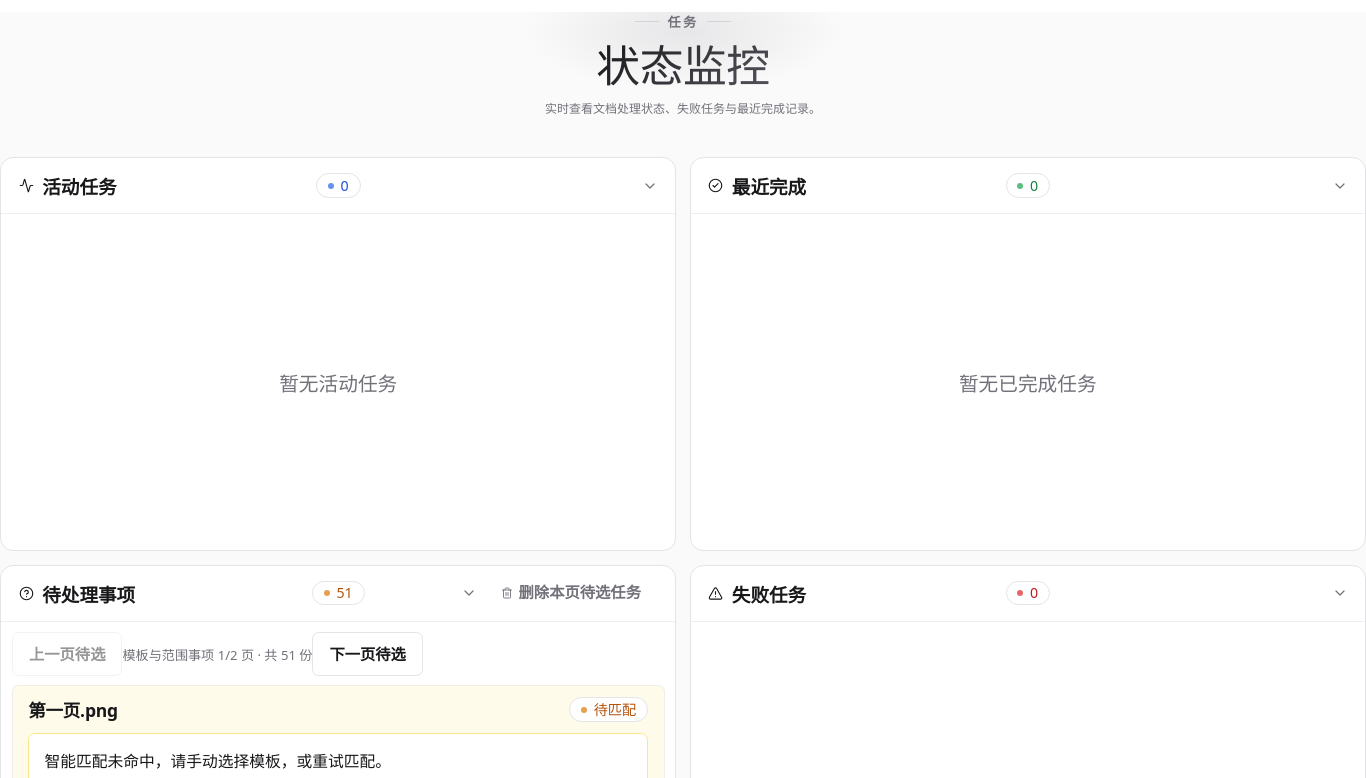
it: TaskQueuePage › pages pending actions using backend totals instead of the loaded row count
The width and height of the screenshot is (1366, 778).
Expected: the text "第一页.png" is shown, x1=28 y1=698 x2=118 y2=722
Expected: the text "模板与范围事项 1/2 页 · 共 51 份" is shown, x1=122 y1=646 x2=312 y2=664
Click the button "下一页待选".
click(368, 654)  # box x1=312 y1=632 x2=423 y2=676
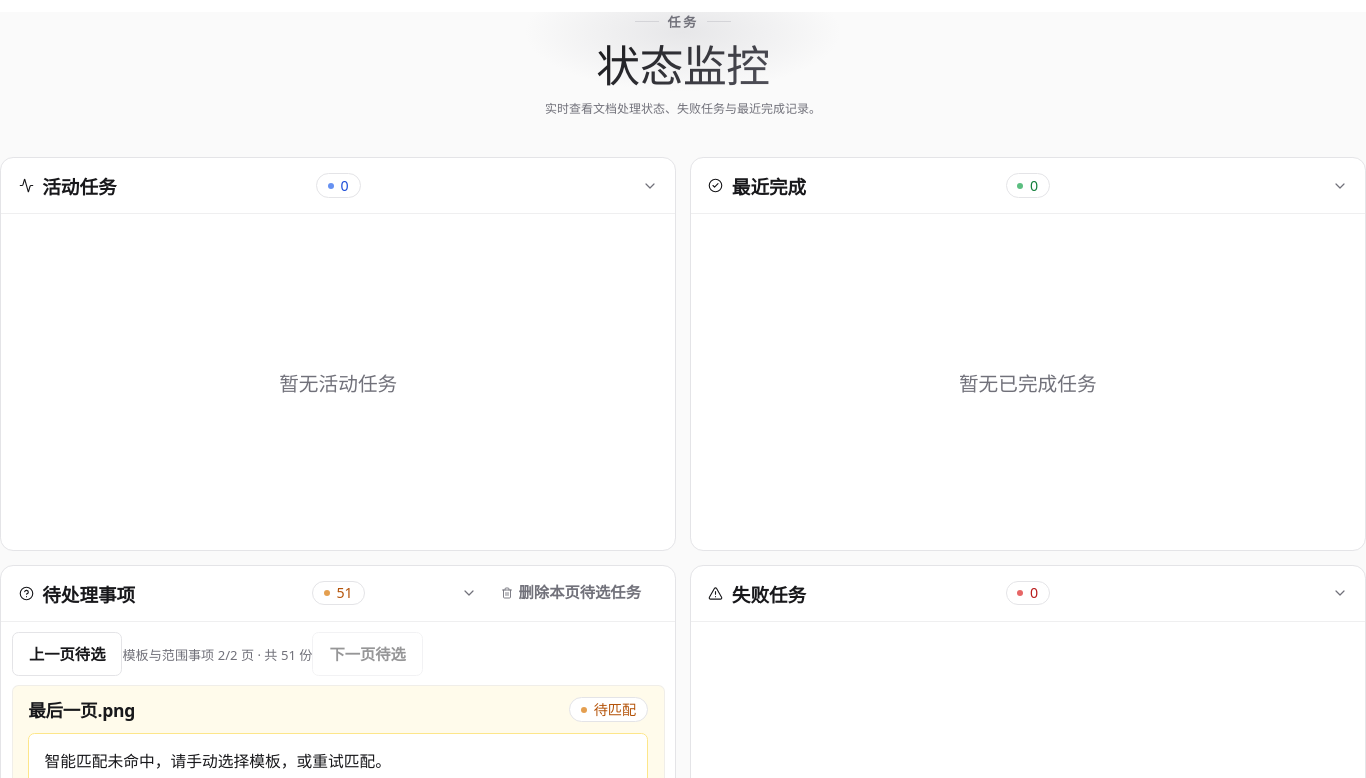
Now the text "最后一页.png" is shown, box x1=28 y1=698 x2=135 y2=722
Now the text "第一页.png" is gone
Now the button "下一页待选" is disabled, box x1=312 y1=632 x2=423 y2=676
